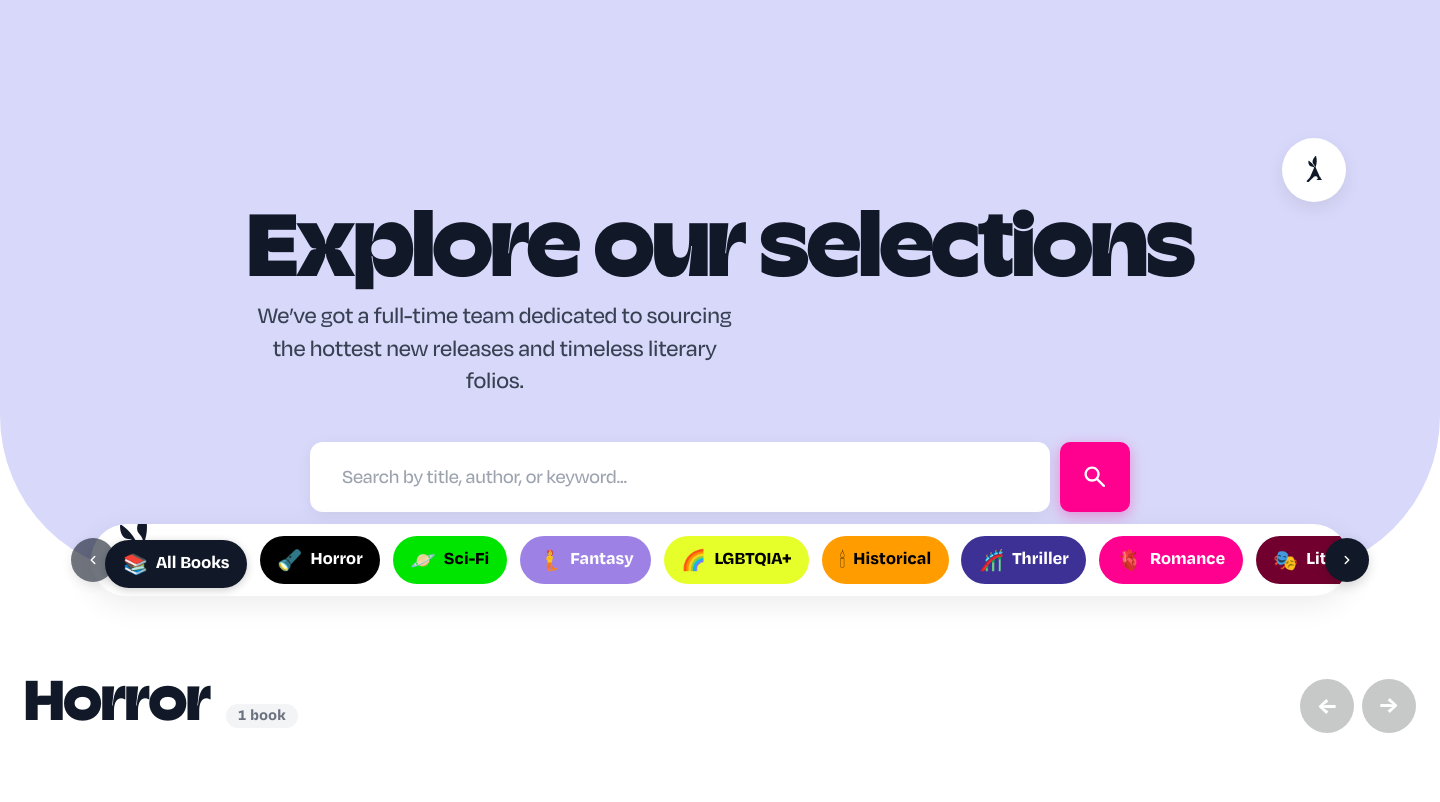
StoreAllBooksPage Component › displays empty state when search produces no results
In the search field with test id "allbooks-search-input": (680, 477) [310,442,1050,512], type "NonexistentBookXYZ"
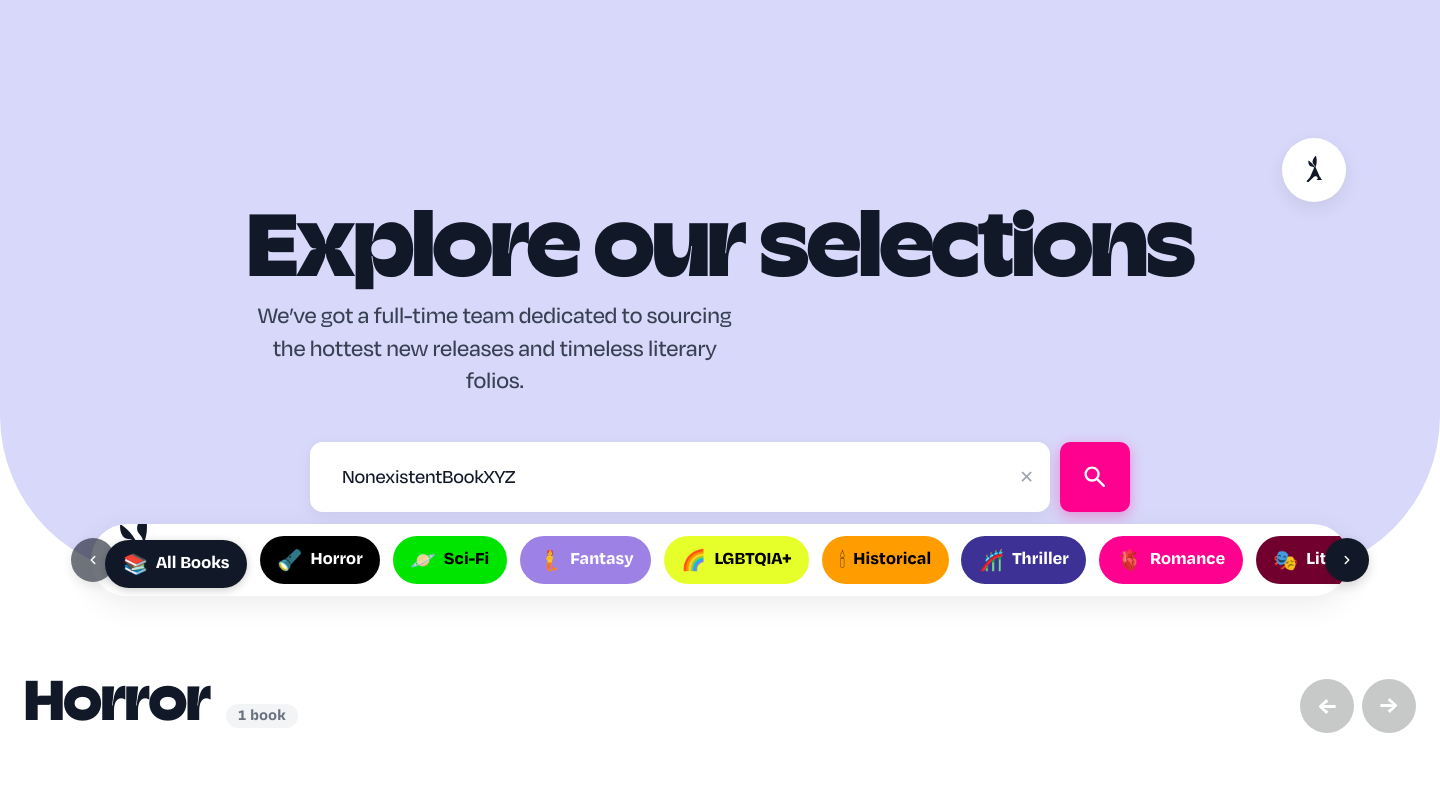
Click the button with test id "allbooks-search-button": (1095, 477) [1060,442,1130,512]
(page scrolled)
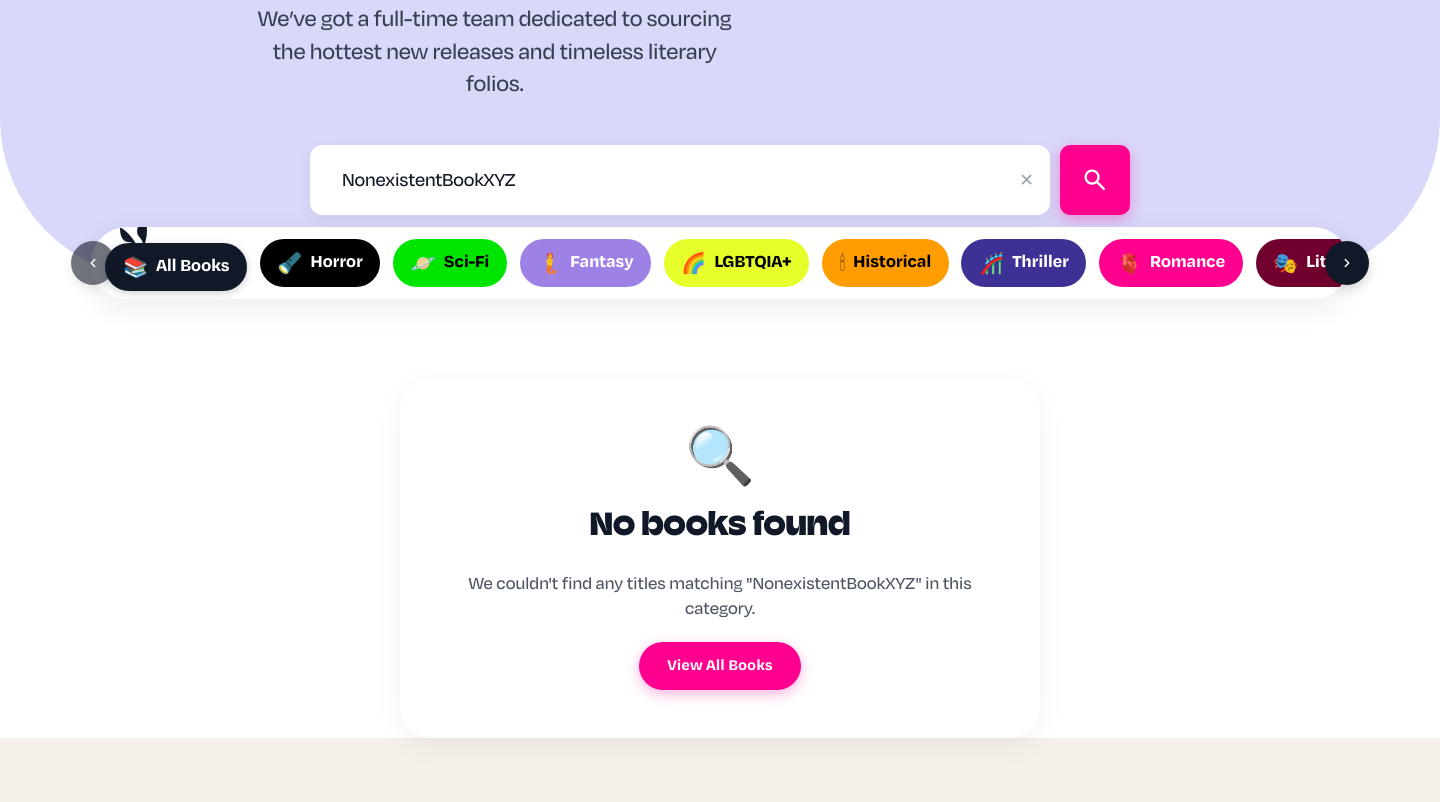
Check: the element with test id "catalogue-empty-state" is shown, box [400,379,1040,738]
Check: the heading "No books found" is shown, box [590,503,850,551]
